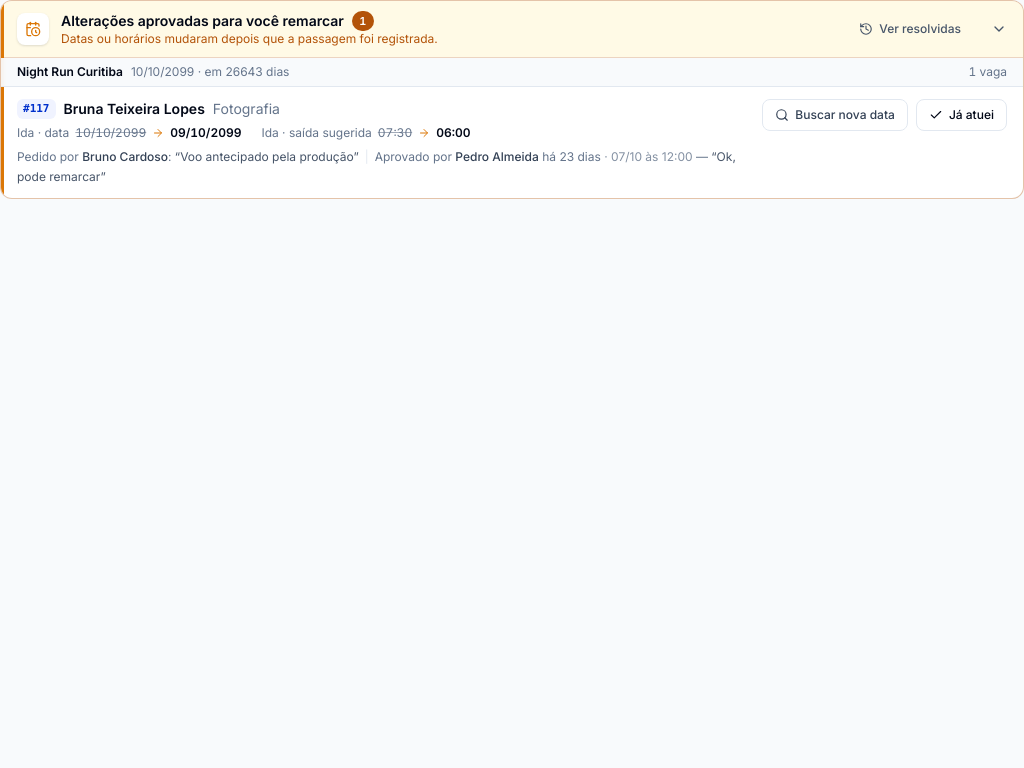
Test: BlocoDeAvisos (passagem) › 'Já atuei' com sucesso: envia o que foi feito, avisa e refaz a lista (o aviso sai)
Click the button "Já atuei" at [961, 115], box [916,99,1007,131]
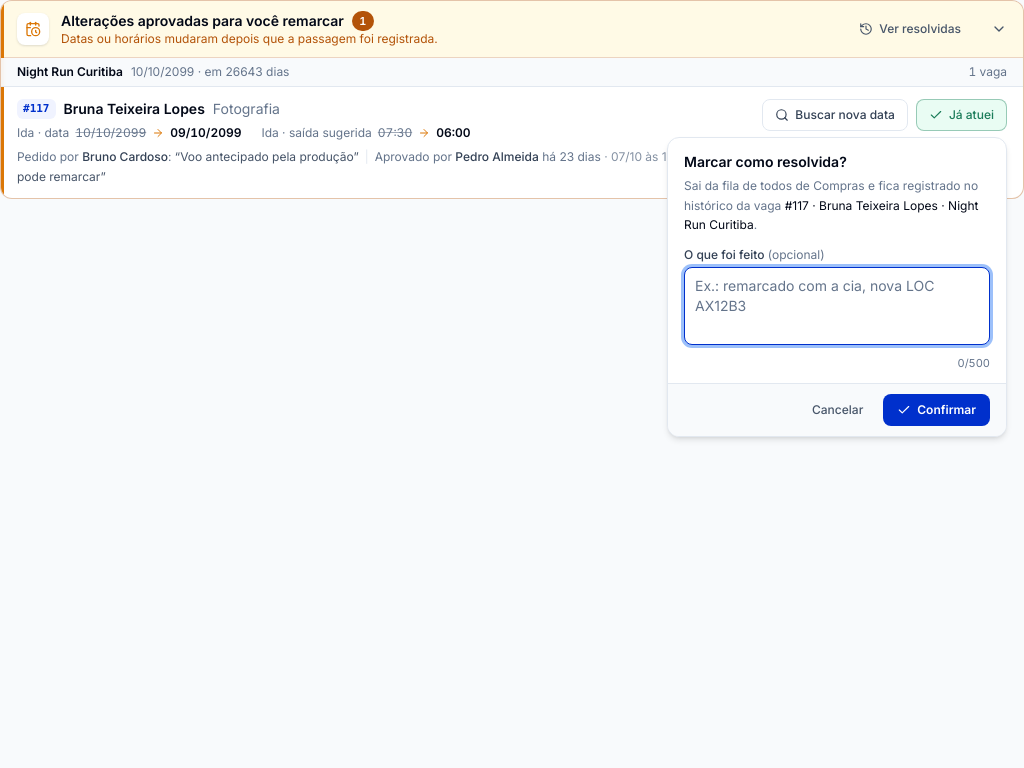
Type "Remarcado com a LATAM" into the text box labelled "O que foi feito (opcional)" at [837, 306], box [684,266,990,344]
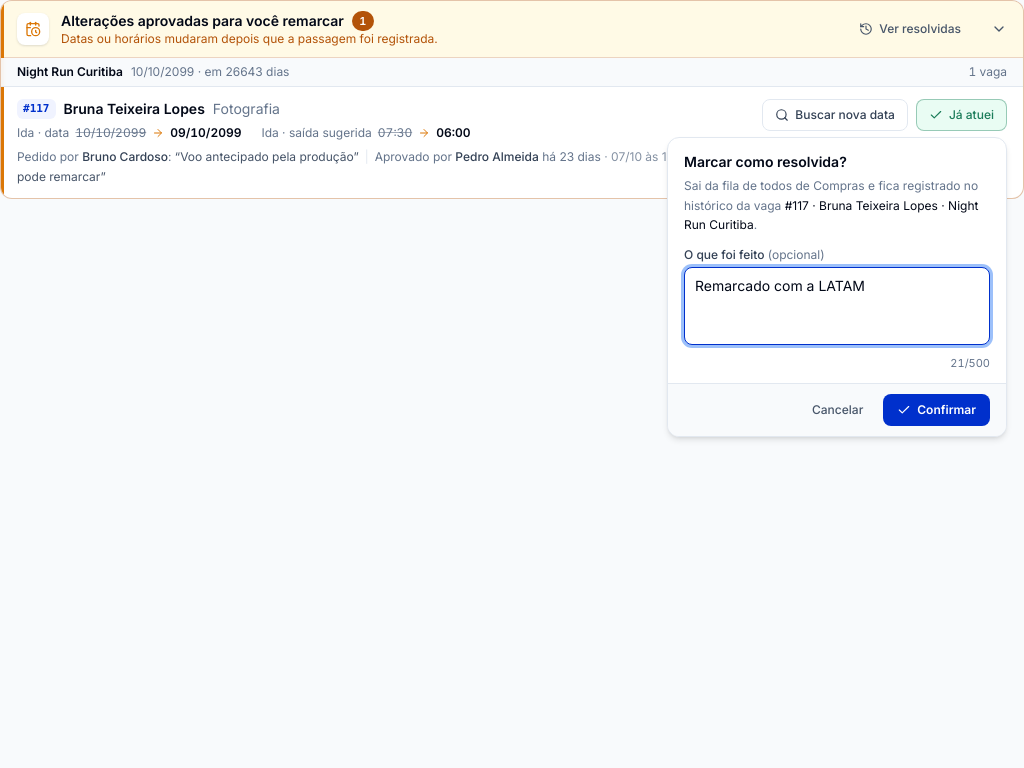
Click the button "Confirmar" at [937, 410], box [883,394,990,426]
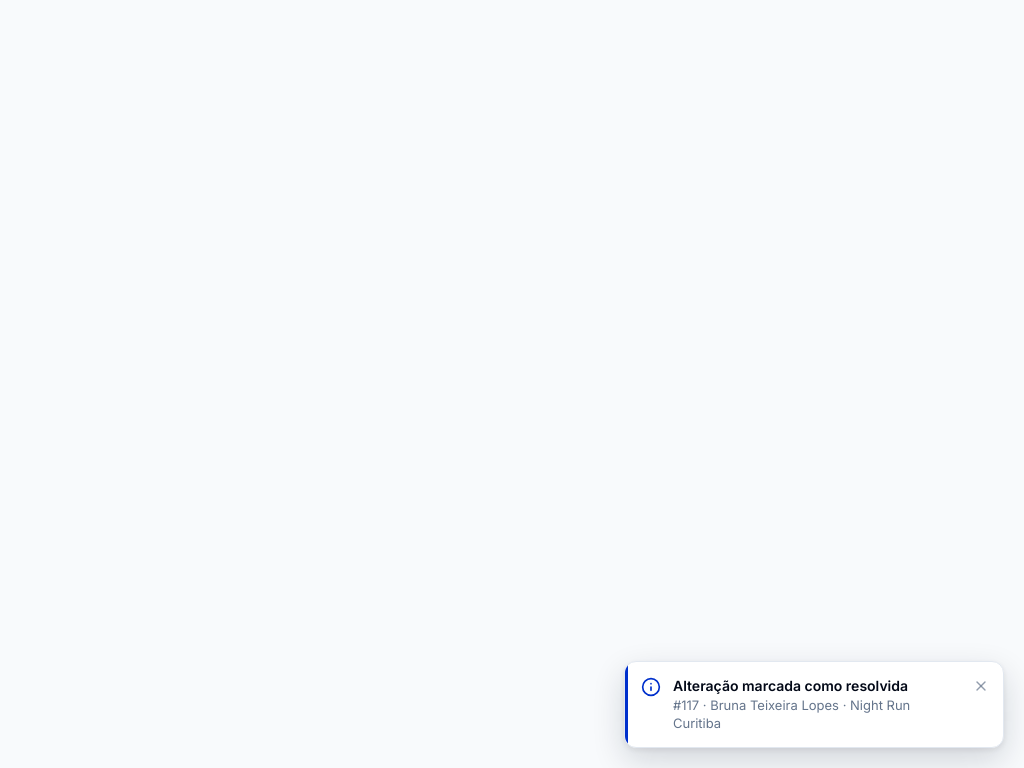
Check: the heading "Alterações aprovadas" is gone
